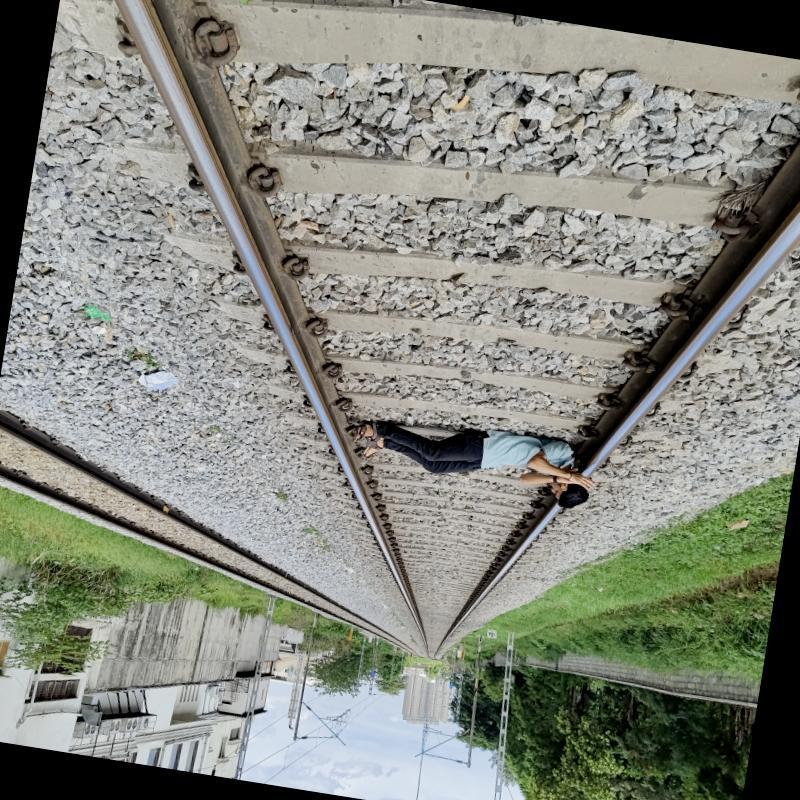sleeping: (341, 408, 596, 516)
